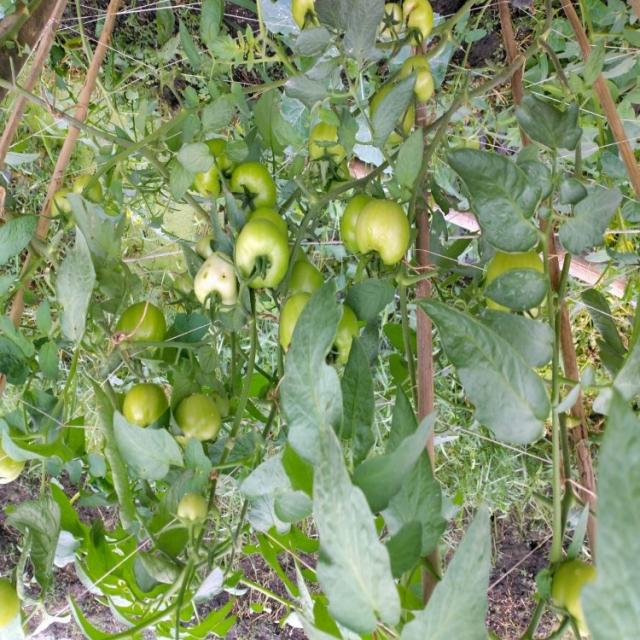tomato: (343, 207, 439, 275), (553, 548, 604, 625), (228, 225, 298, 280), (170, 386, 236, 444), (187, 256, 247, 309), (124, 374, 177, 431), (407, 58, 451, 118), (301, 120, 347, 167), (397, 1, 446, 43), (230, 166, 281, 204), (324, 319, 353, 379), (247, 205, 304, 235), (47, 184, 79, 231), (177, 491, 212, 527), (291, 1, 327, 31), (376, 7, 409, 33)
